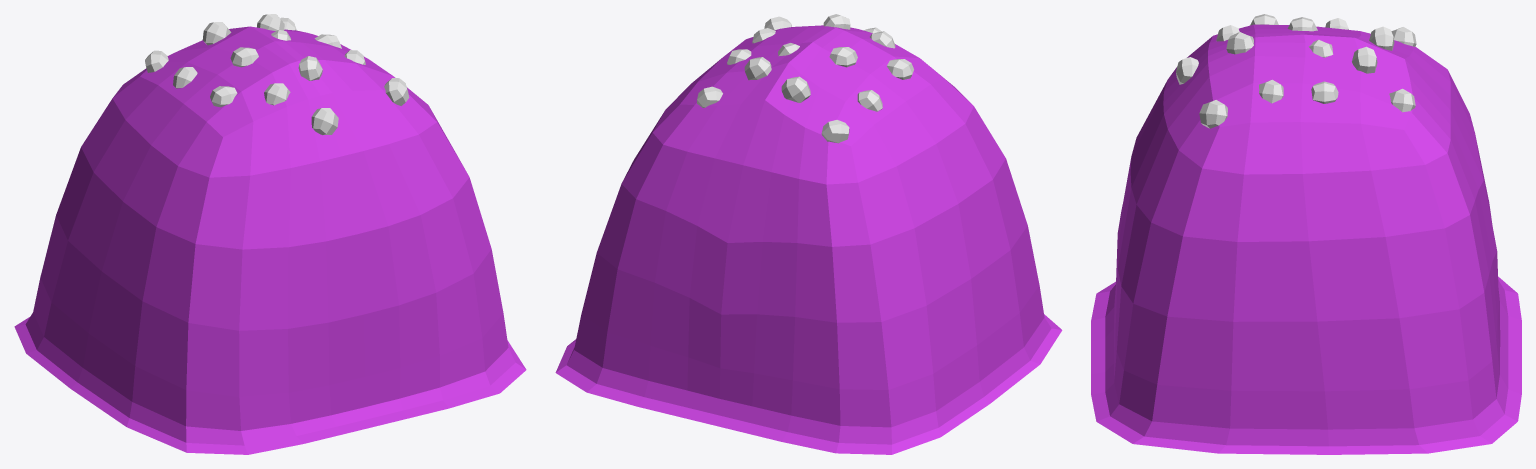
The model's file is gumdrop.fbx.
3 renders of one model, left to right at view 1: azimuth 30°, elevation 25°; view 2: azimuth 150°, elevation 25°; view 3: azimuth 270°, elevation 25°, orthographic. The views are drawn at different scales.
Visible parts, largest first — view 1: Cube; view 2: Cube; view 3: Cube.
Part boxes in pixels (box(x1,y1,x2,y2)): Cube: box(14, 14, 526, 454); Cube: box(555, 14, 1062, 454); Cube: box(1091, 14, 1521, 454).
Bounding box in the file's own units: 673 × 529 × 629.
